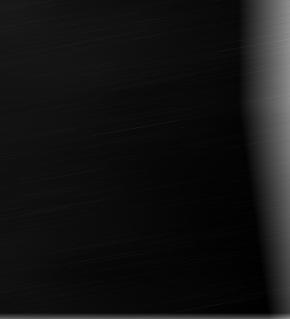Airbag: (0, 0, 290, 318), (270, 1, 290, 319)
